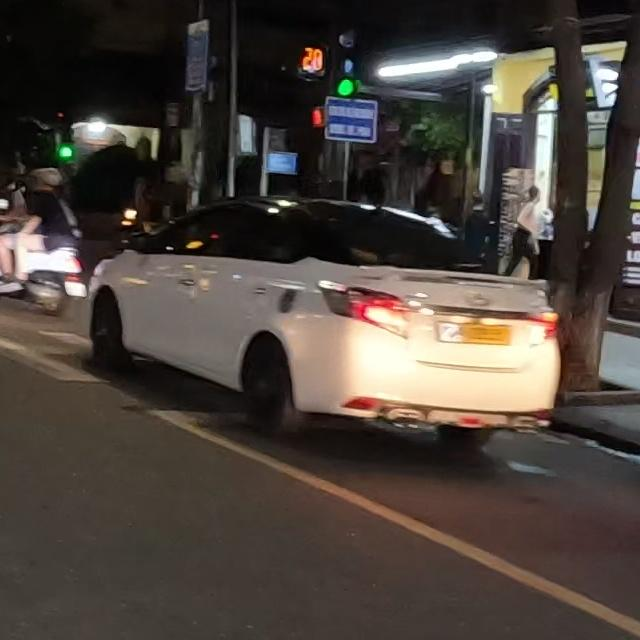license-plate: (437, 320, 513, 345)
